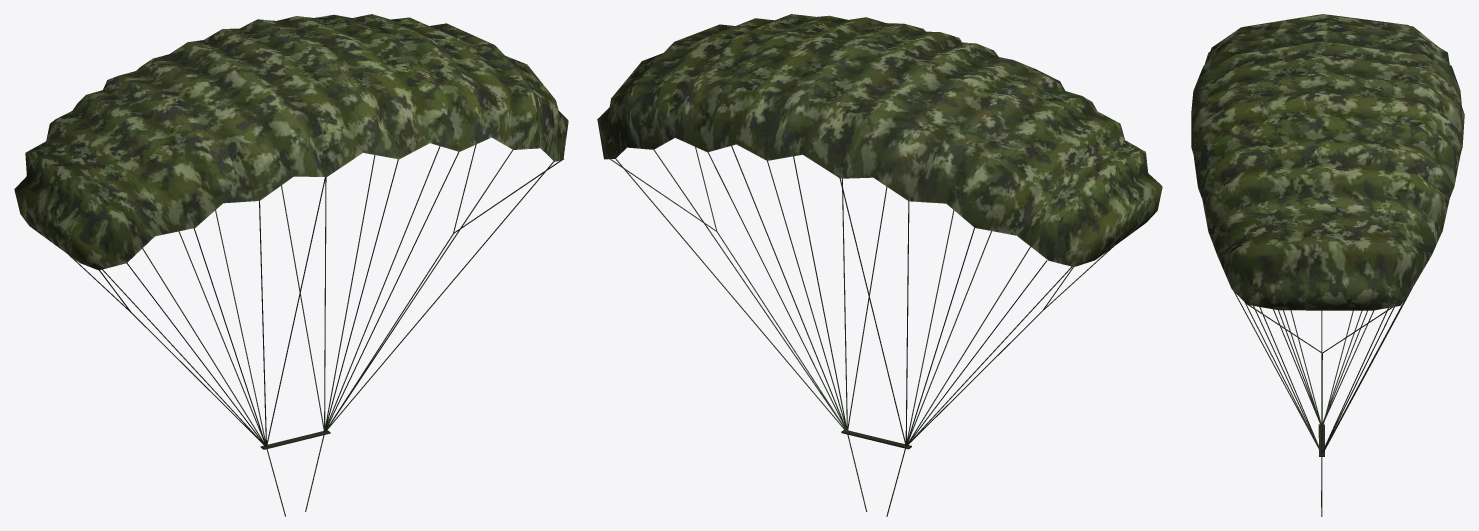
File: parachute.glb
3 views of the same model, side by side, from view 1: azimuth 30°, elevation 25°; view 2: azimuth 150°, elevation 25°; view 3: azimuth 270°, elevation 25° (orthographic). The views are drawn at different scales.
Visible parts, largest first — view 1: Parachute_Vehicle_AirDrop; view 2: Parachute_Vehicle_AirDrop; view 3: Parachute_Vehicle_AirDrop.
Part boxes in pixels (x1,y1,x2,y2): Parachute_Vehicle_AirDrop: (14, 14, 568, 516); Parachute_Vehicle_AirDrop: (597, 14, 1162, 516); Parachute_Vehicle_AirDrop: (1191, 14, 1464, 516).
Bounding box in the file's own units: 7.14 × 6.36 × 3.54.
Materials: 1 (1 with a texture image).
